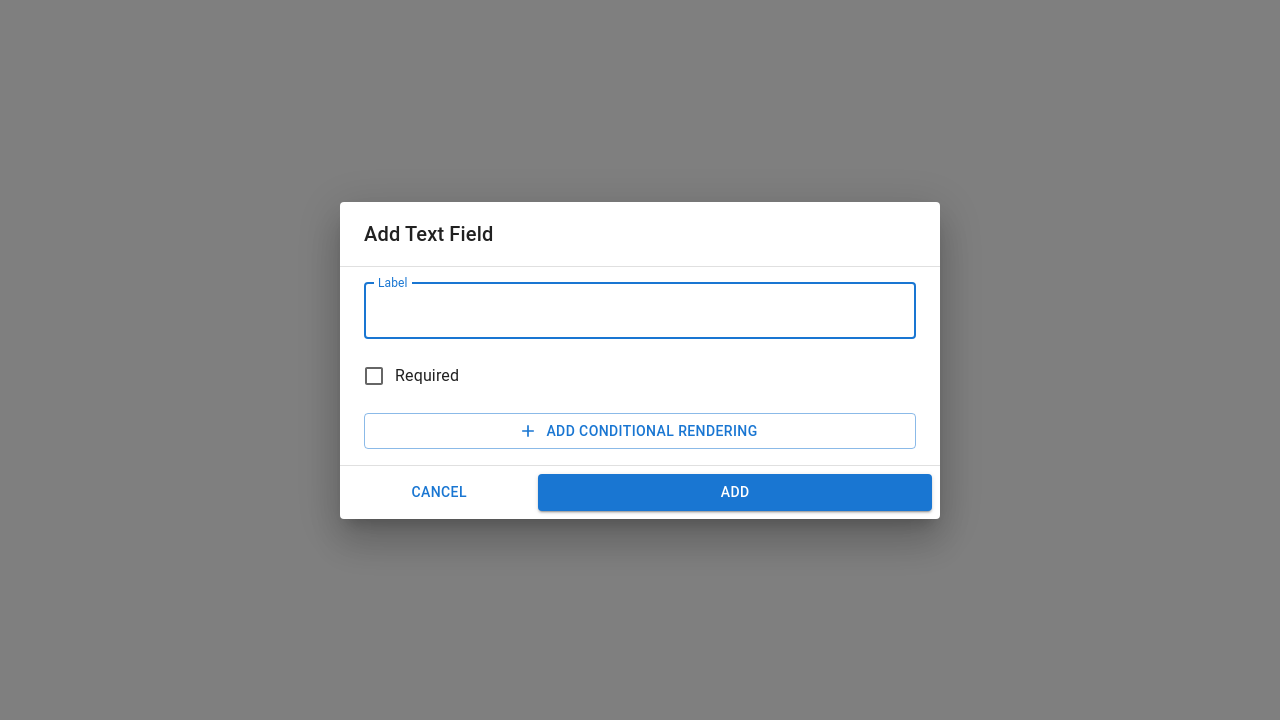
Test case: can toggle conditional rendering fields
The image size is (1280, 720).
Expected: the field labelled "Based on" is not shown
Click the button "Add Conditional Rendering": (640, 431) [364, 412, 916, 449]
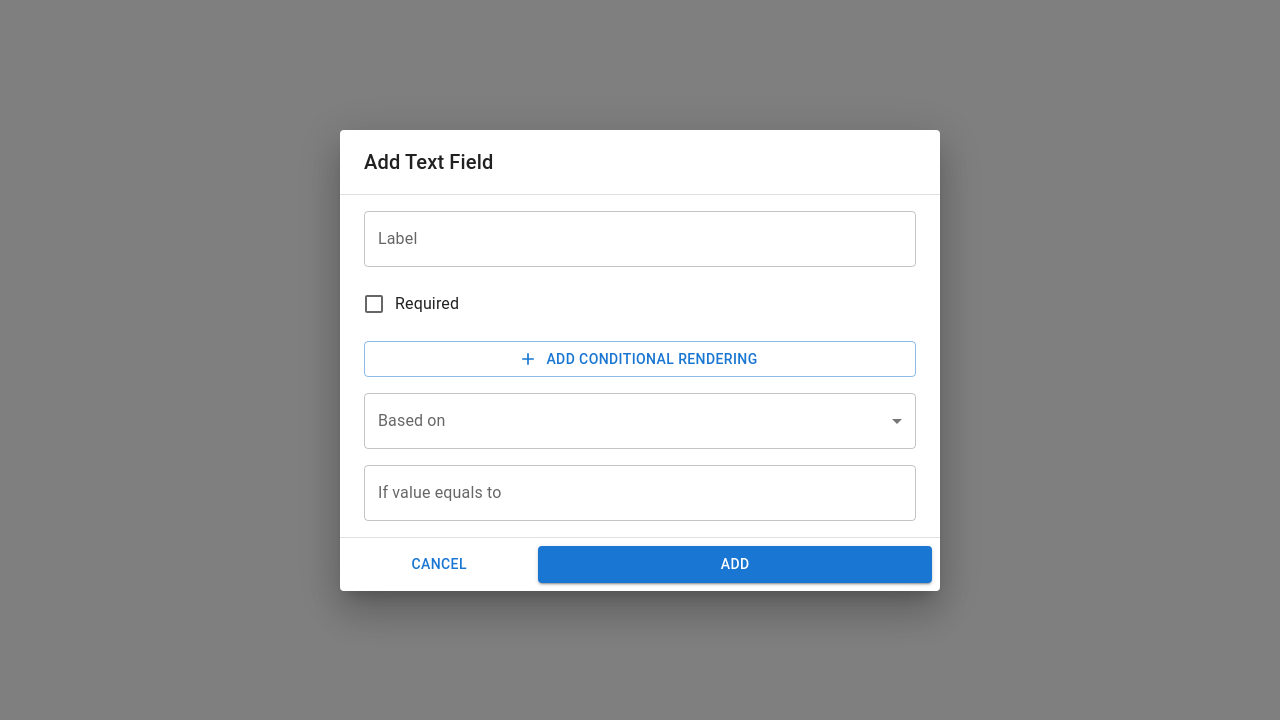
Now the dropdown named "Based on" is shown, box [364, 393, 916, 449]
Now the field labelled "If value equals to" is shown, box [364, 465, 916, 521]
